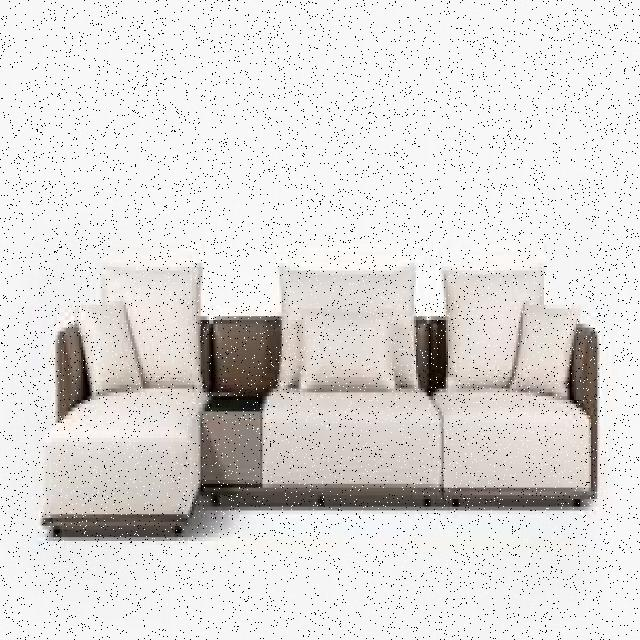Sofa: (29, 234, 619, 564)
